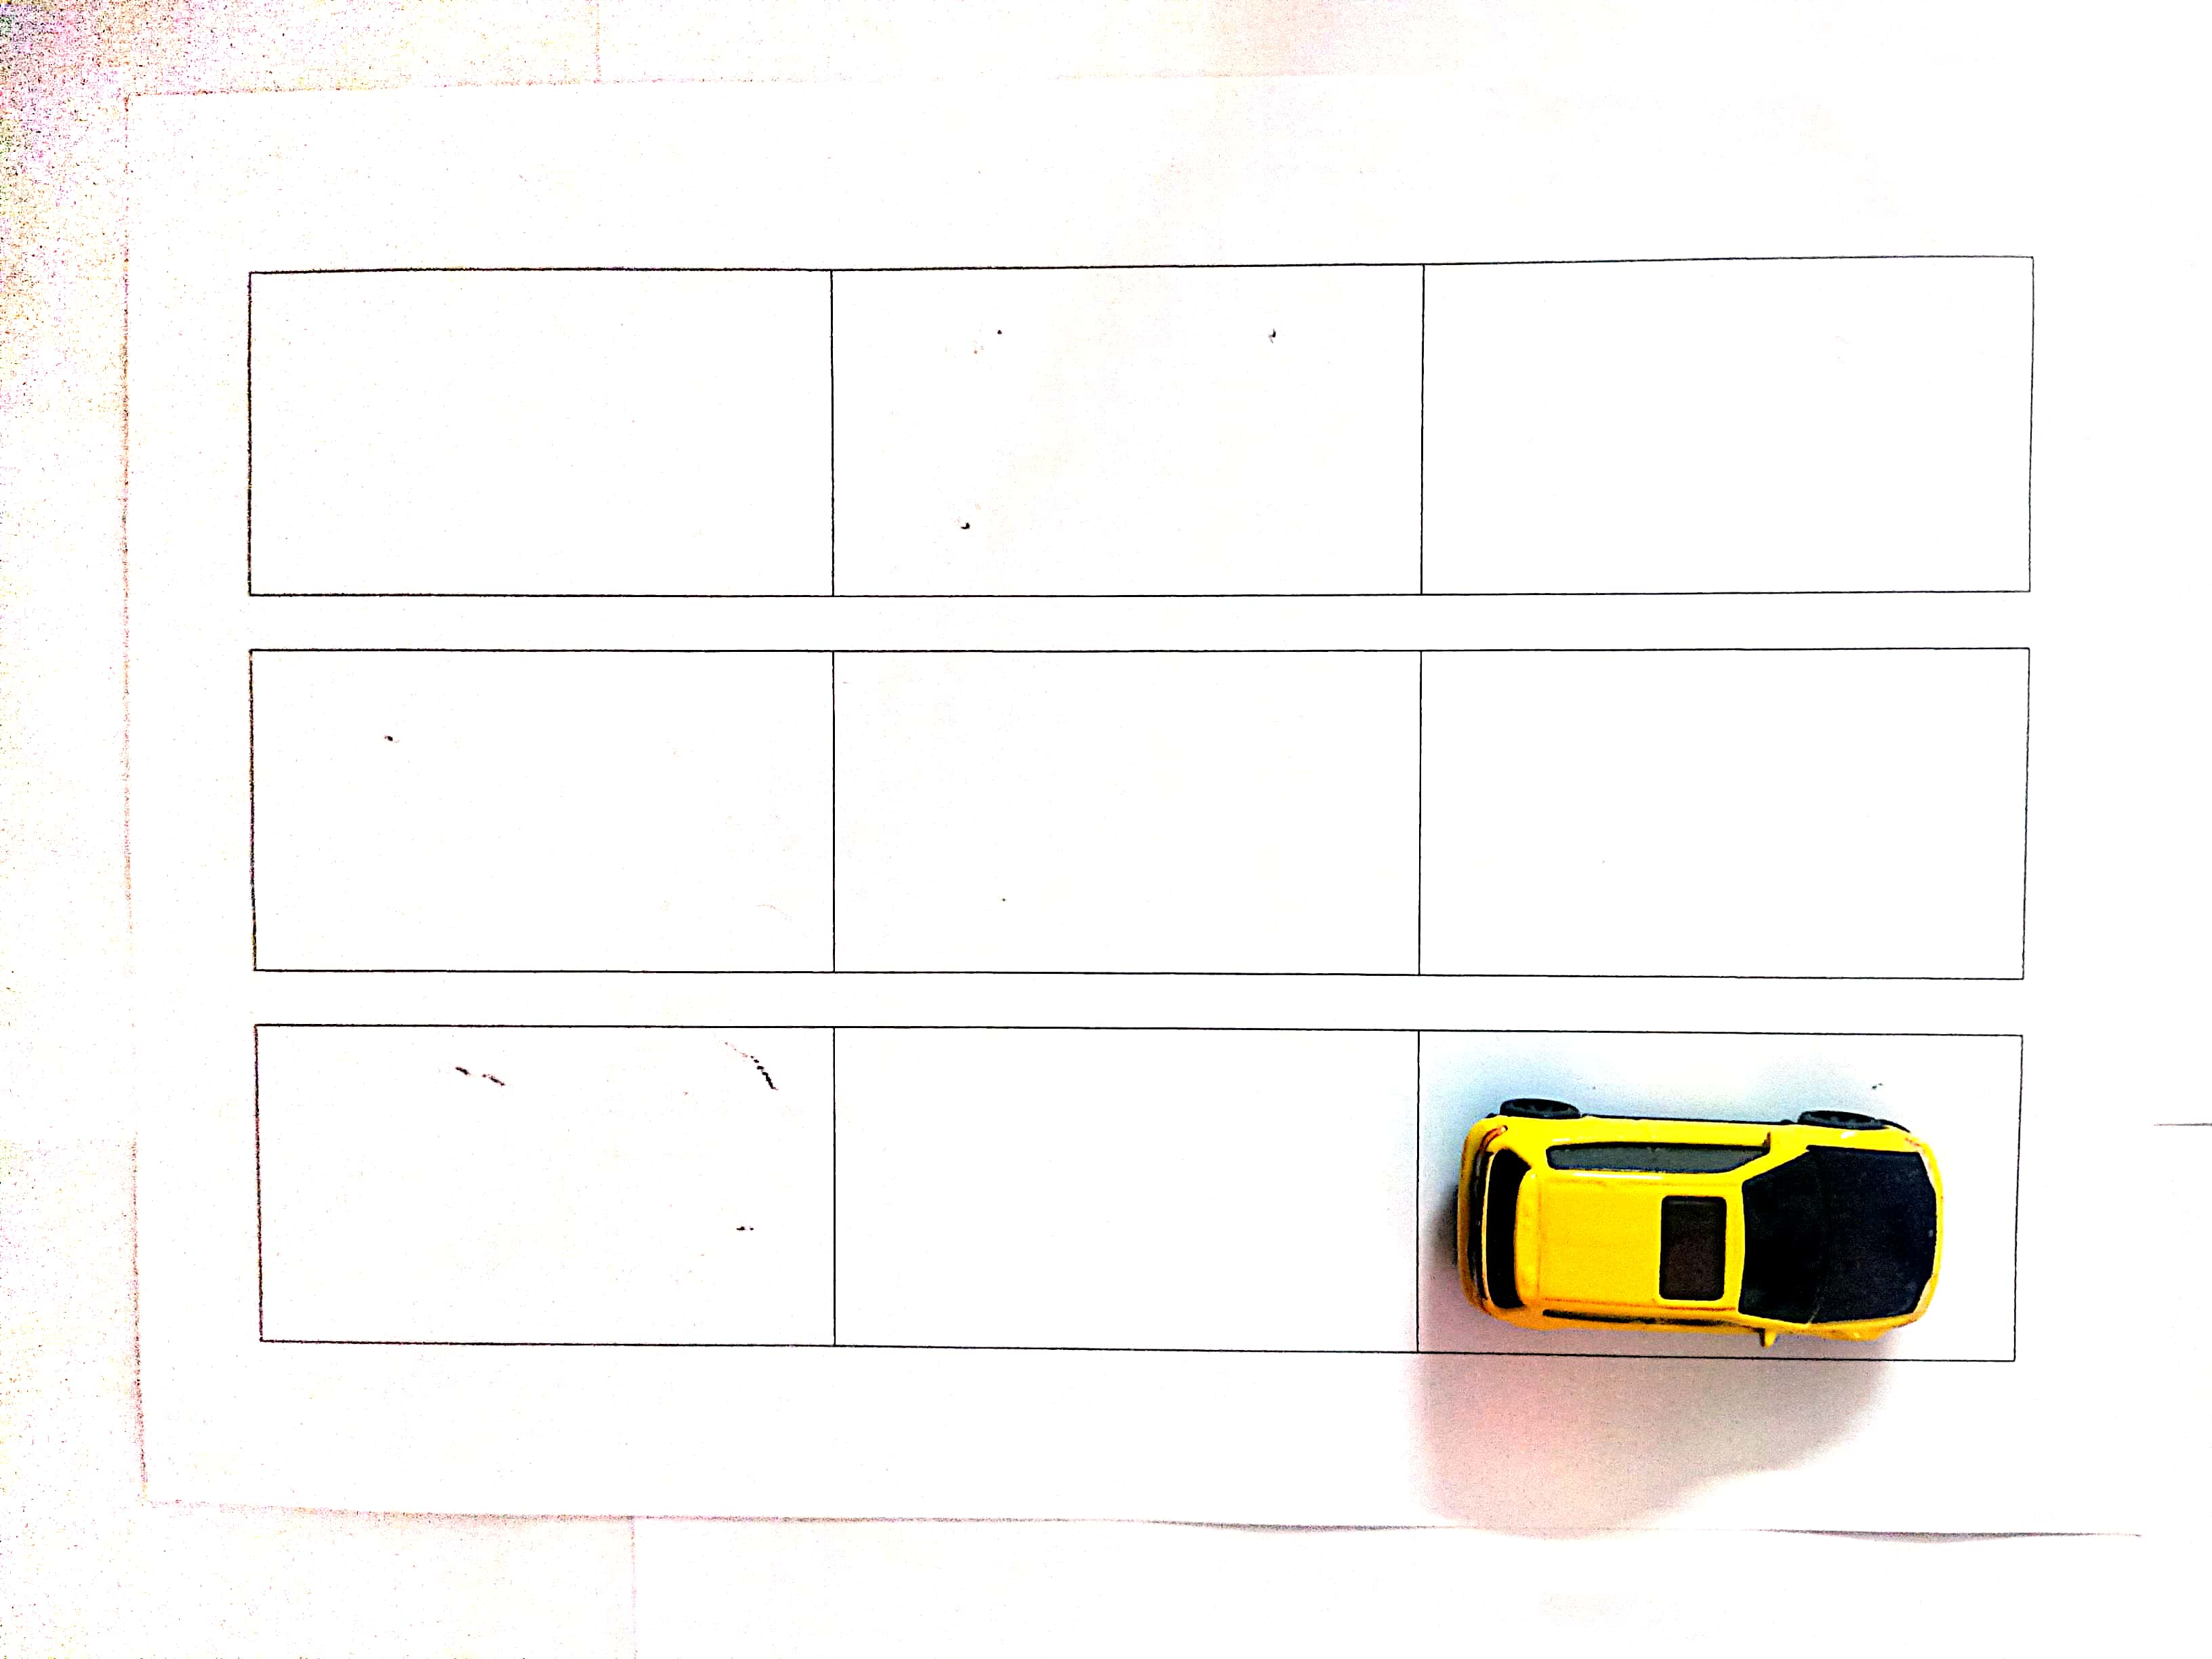Busy: (1423, 1033, 2026, 1361)
Free: (1418, 653, 2027, 979), (1418, 263, 2027, 582), (247, 655, 838, 972), (829, 272, 1418, 589), (253, 263, 827, 586), (834, 653, 1418, 967), (838, 1025, 1414, 1342), (258, 1028, 838, 1338)
